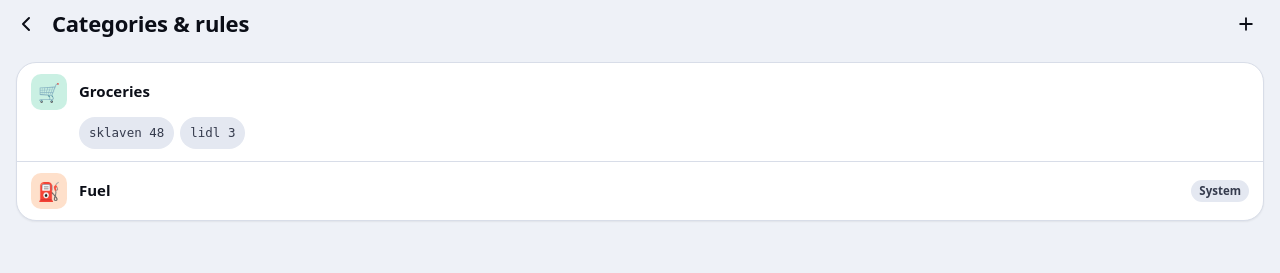
Test: Categories & rules › a locked category explains itself and has no editor
This screenshot has width=1280, height=273.
Click the button "⛽ Fuel System": (49, 191) [17,162,1263,220]
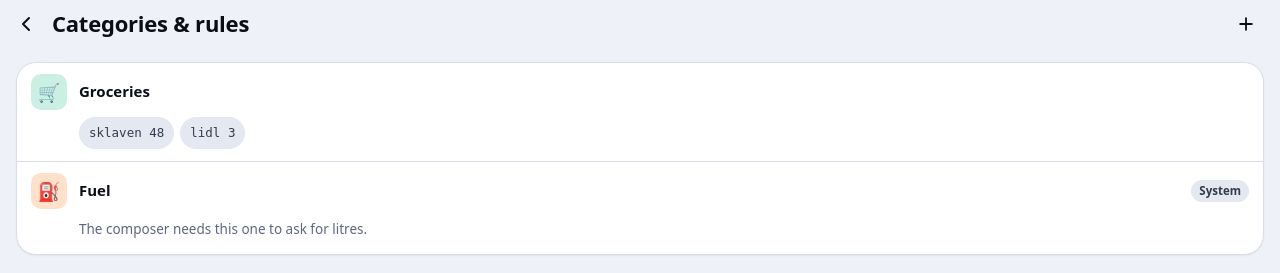
Check: the text "The composer needs this one to ask for litres." is shown, box [79,220,367,238]
